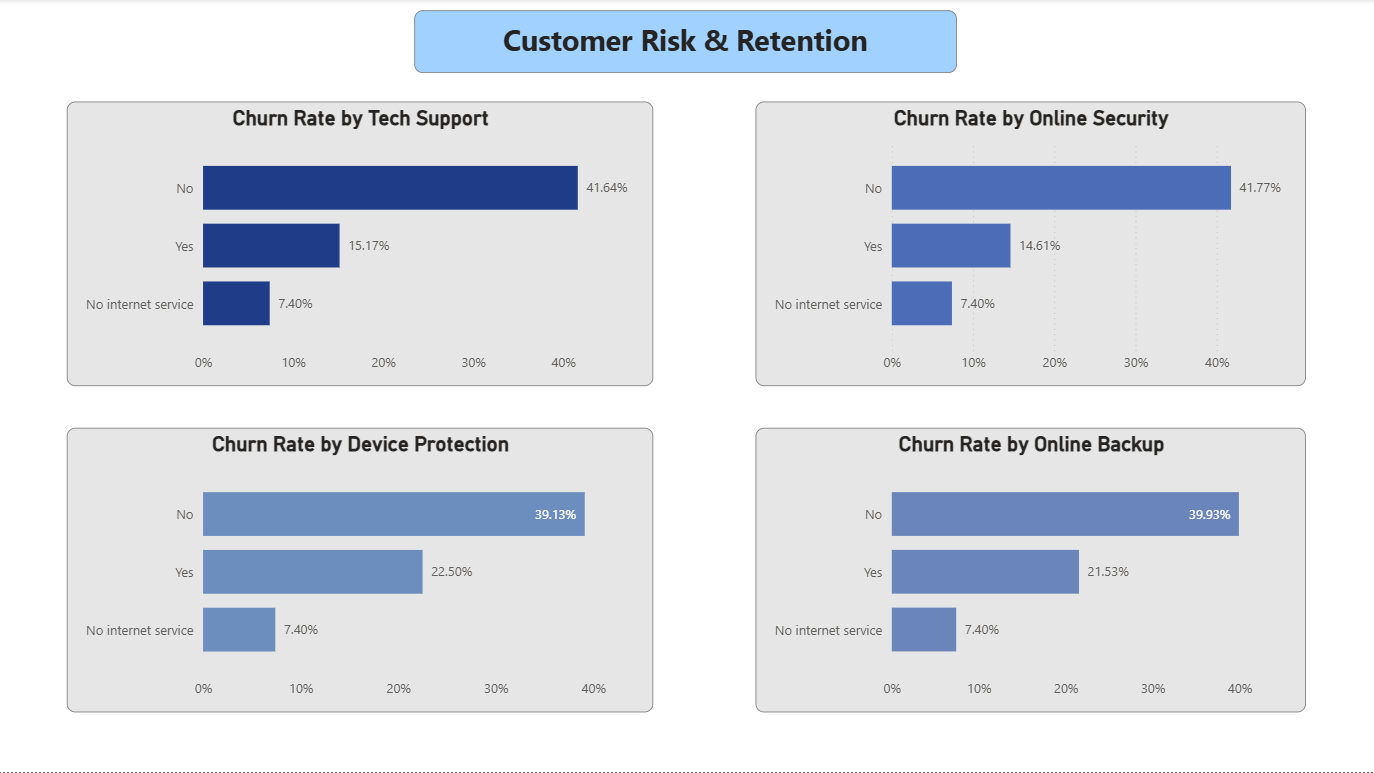

The dashboard page shown, as its layout file describes it:
{"tool":"powerbi","page":{"name":"Customer Risk & Retention","canvas":[1280,720],"ordinal":1},"visuals":[{"type":"clusteredBarChart","title":"Churn Rate by Tech Support","fields":{"Category":["Telco_Customer_Churn_Cleaned.TechSupport"],"Y":["Telco_Customer_Churn_Cleaned.Tech Support Churn Rate %"]},"box":[64,95.3,545.4,265.1],"z":0},{"type":"textbox","box":[387.2,10.5,504.7,58.1],"z":1000},{"type":"clusteredBarChart","title":"Churn Rate by Online Security","fields":{"Category":["Telco_Customer_Churn_Cleaned.OnlineSecurity"],"Y":["Telco_Customer_Churn_Cleaned.Online Security Churn Rate %"]},"box":[704.7,95.3,511.6,265.1],"z":2000},{"type":"clusteredBarChart","title":"Churn Rate by Device Protection","fields":{"Category":["Telco_Customer_Churn_Cleaned.DeviceProtection"],"Y":["Telco_Customer_Churn_Cleaned.Device Protection Churn Rate %"]},"box":[64,398.8,545.4,265.1],"z":3000},{"type":"clusteredBarChart","title":"Churn Rate by Online Backup","fields":{"Category":["Telco_Customer_Churn_Cleaned.OnlineBackup"],"Y":["Telco_Customer_Churn_Cleaned.Online Backup Churn Rate %"]},"box":[705,399,512,265],"z":4000}]}

Visuals, with their boxes in screenshot pixels (x1, y1, x2, y2), scaled from the page's 1280x720 canvas onto the 1374x773 screenshot:
"Churn Rate by Tech Support" clusteredBarChart: bbox=(69, 102, 654, 387)
textbox: bbox=(416, 11, 957, 74)
"Churn Rate by Online Security" clusteredBarChart: bbox=(756, 102, 1306, 387)
"Churn Rate by Device Protection" clusteredBarChart: bbox=(69, 428, 654, 713)
"Churn Rate by Online Backup" clusteredBarChart: bbox=(757, 428, 1306, 713)
